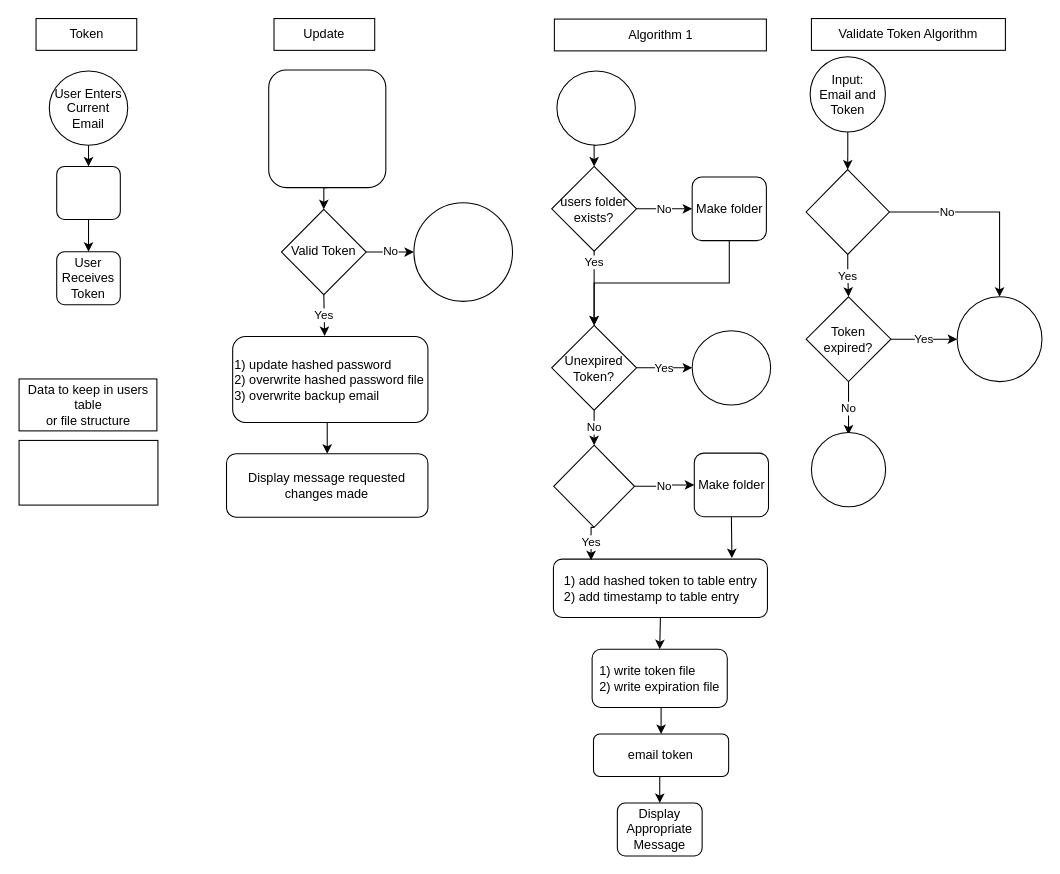
Some shapes in this 1060 by 874 pixel diagram are drawn without their labels. Here are the shapes that lost their labels. From the top down, the box of each, then its label:
(556, 70, 635, 145): User Enters Email
(268, 69, 386, 188): User enters the following information: 1) email 2) password 5) token
(56, 165, 120, 219): Run algorithm 1
(805, 169, 889, 254): Email/Token Combo Valid
(413, 202, 513, 301): Display token combo invalid- expired mesaage.
(956, 296, 1042, 382): Not Valid
(691, 330, 771, 405): Do Nothing
(18, 439, 158, 505): 1) user email 2) hashed password 3) hashed token 4) token expiration
(553, 444, 635, 527): Email folder exists?
(810, 431, 886, 507): Valid
